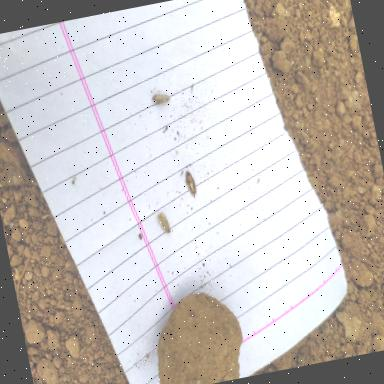pbw: (184, 168, 199, 198), (156, 212, 172, 236), (152, 92, 172, 109)
